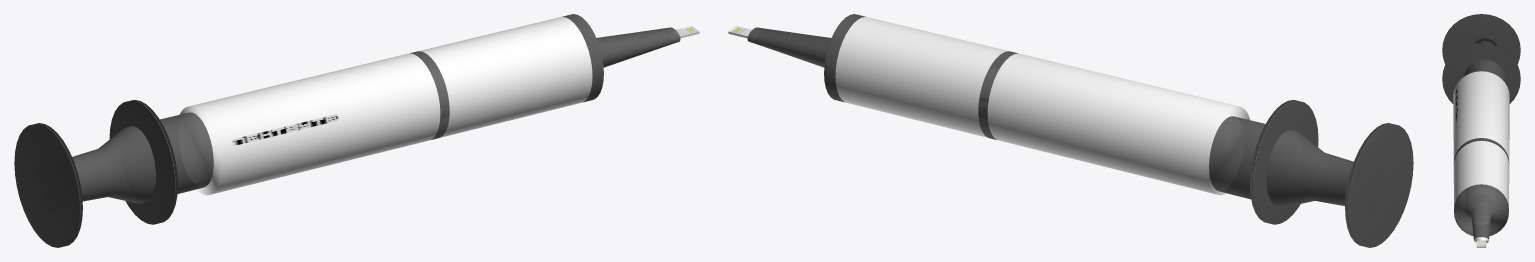
File: syringe.glb
The picture shows the model from 3 angles, left to right: view 1: azimuth 30°, elevation 25°; view 2: azimuth 150°, elevation 25°; view 3: azimuth 270°, elevation 25°; orthographic projection. The views are drawn at different scales.
Parts seen in each view (by area): view 1: body, Cylinder.001, Cylinder, Cylinder.004; view 2: body, Cylinder.001, Cylinder, Cylinder.004; view 3: body, Cylinder, Cylinder.004, Cylinder.001, Cylinder.005.
Part boxes in pixels (x1,y1,x2,y2): body: (179, 14, 680, 195); Cylinder.001: (72, 112, 213, 203); Cylinder: (14, 123, 82, 247); Cylinder.004: (109, 100, 177, 224); body: (747, 14, 1250, 195); Cylinder.001: (1209, 116, 1353, 207); Cylinder: (1345, 123, 1413, 247); Cylinder.004: (1250, 100, 1318, 224); body: (1453, 71, 1509, 243); Cylinder: (1442, 14, 1520, 64); Cylinder.004: (1442, 42, 1520, 103); Cylinder.001: (1463, 38, 1506, 84); Cylinder.005: (1476, 240, 1486, 247).
Size of the model in its own units: 8.91 by 1.5 by 1.5.
13 materials, 2 textured.
